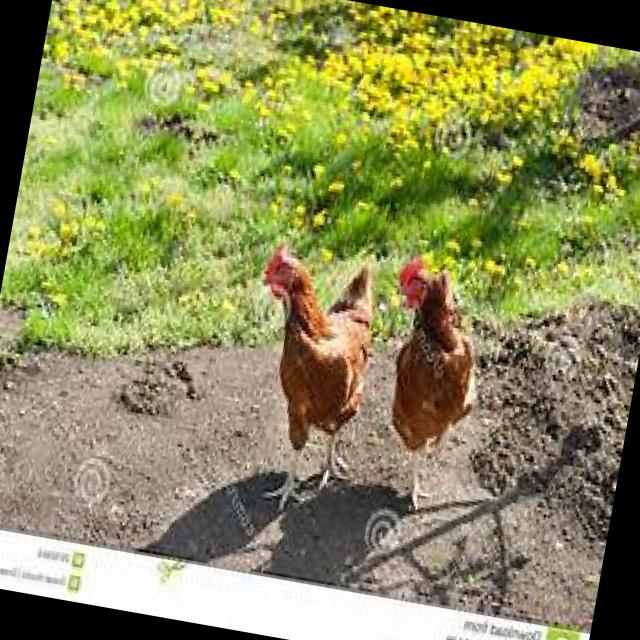animal: (224, 236, 392, 520), (360, 251, 500, 516)
